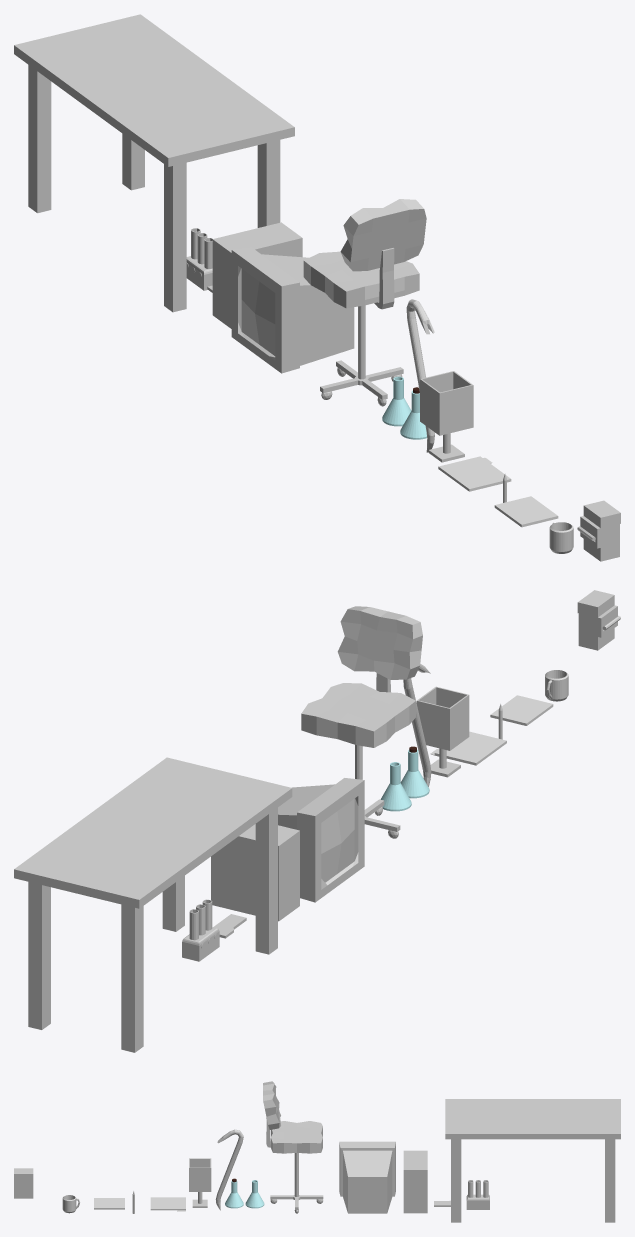
File: coisinhas.fbx
3 renders of one model, top to bottom at view 1: azimuth 30°, elevation 25°; view 2: azimuth 150°, elevation 25°; view 3: azimuth 270°, elevation 25°, orthographic. The views are drawn at different scales.
Parts seen in each view (by area): view 1: mesa, cadeira gira gira, tela do pc, abajur, pc, disjuntor, ficha, treco, pe de pequi, folheto, tubo 1, tubo 2 (+1 smaller); view 2: mesa, cadeira gira gira, tela do pc, pc, abajur, disjuntor, treco, ficha, folheto, pe de pequi, tubo 1, tubo 2 (+1 smaller); view 3: mesa, tela do pc, cadeira gira gira, pc, abajur, treco, disjuntor, pe de pequi, ficha, folheto, tubo 2, tubo 1 (+1 smaller).
Part boxes in pixels (x1,y1,x2,y2): mesa: [14, 14, 294, 312]; cadeira gira gira: [303, 199, 426, 406]; tela do pc: [231, 247, 354, 373]; abajur: [420, 371, 473, 462]; pc: [212, 222, 302, 328]; disjuntor: [580, 500, 620, 561]; ficha: [438, 456, 511, 491]; treco: [186, 228, 212, 290]; pe de pequi: [406, 299, 434, 452]; folheto: [494, 496, 558, 527]; tubo 1: [382, 376, 411, 426]; tubo 2: [400, 387, 426, 439]; mesa: [14, 757, 292, 1052]; cadeira gira gira: [301, 606, 422, 838]; tela do pc: [278, 778, 364, 902]; pc: [211, 824, 299, 921]; abajur: [416, 686, 469, 777]; disjuntor: [577, 590, 617, 650]; treco: [182, 899, 219, 961]; ficha: [430, 731, 506, 765]; folheto: [490, 695, 553, 725]; pe de pequi: [403, 664, 431, 786]; tubo 1: [380, 762, 411, 811]; tubo 2: [400, 746, 429, 798]; mesa: [445, 1099, 620, 1222]; tela do pc: [339, 1141, 395, 1213]; cadeira gira gira: [263, 1081, 323, 1213]; pc: [403, 1150, 427, 1213]; abajur: [189, 1158, 211, 1207]; treco: [466, 1180, 489, 1209]; disjuntor: [14, 1168, 33, 1198]; pe de pequi: [215, 1129, 243, 1210]; ficha: [150, 1197, 185, 1211]; folheto: [94, 1198, 124, 1209]; tubo 2: [225, 1178, 243, 1208]; tubo 1: [245, 1180, 264, 1208].
Size of the model in its own units: 604 by 1001 by 4407.
